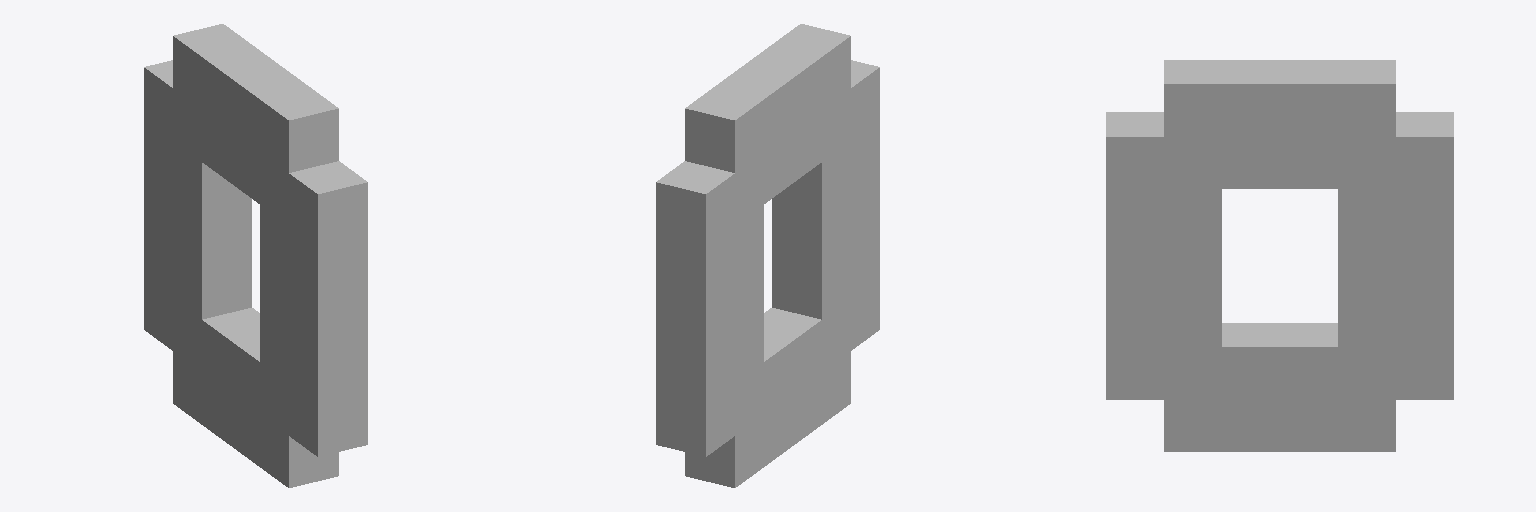
The model's file is Coin.obj.
The picture shows the model from 3 angles: view 1: azimuth 30°, elevation 25°; view 2: azimuth 150°, elevation 25°; view 3: azimuth 270°, elevation 25°; orthographic projection.
Visible parts, largest first — view 1: object 1; view 2: object 1; view 3: object 1.
Boxes of the visible parts, box(x1,y1,x2,y2) form: object 1: box(144, 24, 367, 487); object 1: box(656, 24, 879, 487); object 1: box(1106, 60, 1453, 451).
Size of the model in its own units: 0.1 by 0.7 by 0.6.